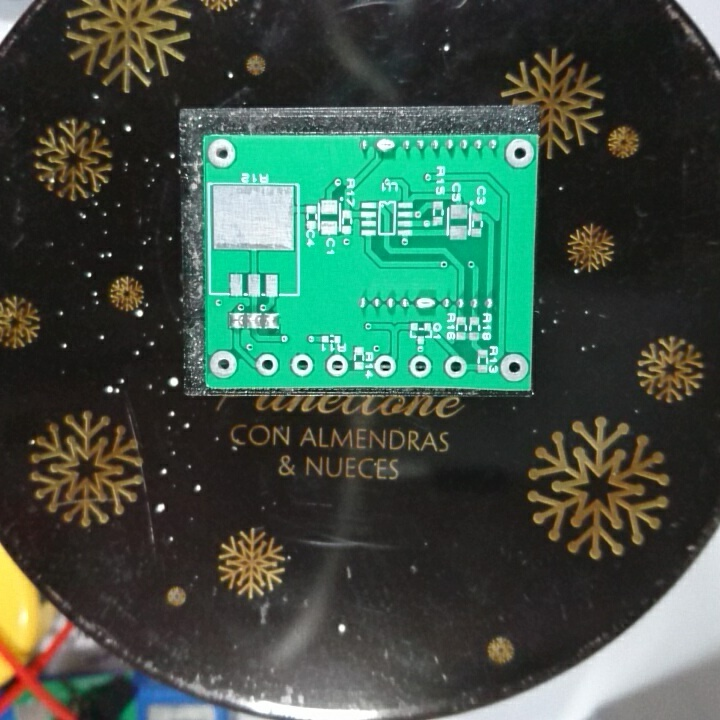F: (504, 137, 537, 171), (205, 136, 237, 170), (499, 350, 529, 384), (208, 348, 239, 380), (325, 352, 350, 381), (407, 352, 432, 380), (290, 352, 315, 380), (256, 351, 280, 380), (443, 355, 469, 380), (373, 353, 397, 380)
P: (412, 292, 438, 314), (374, 137, 398, 157)
